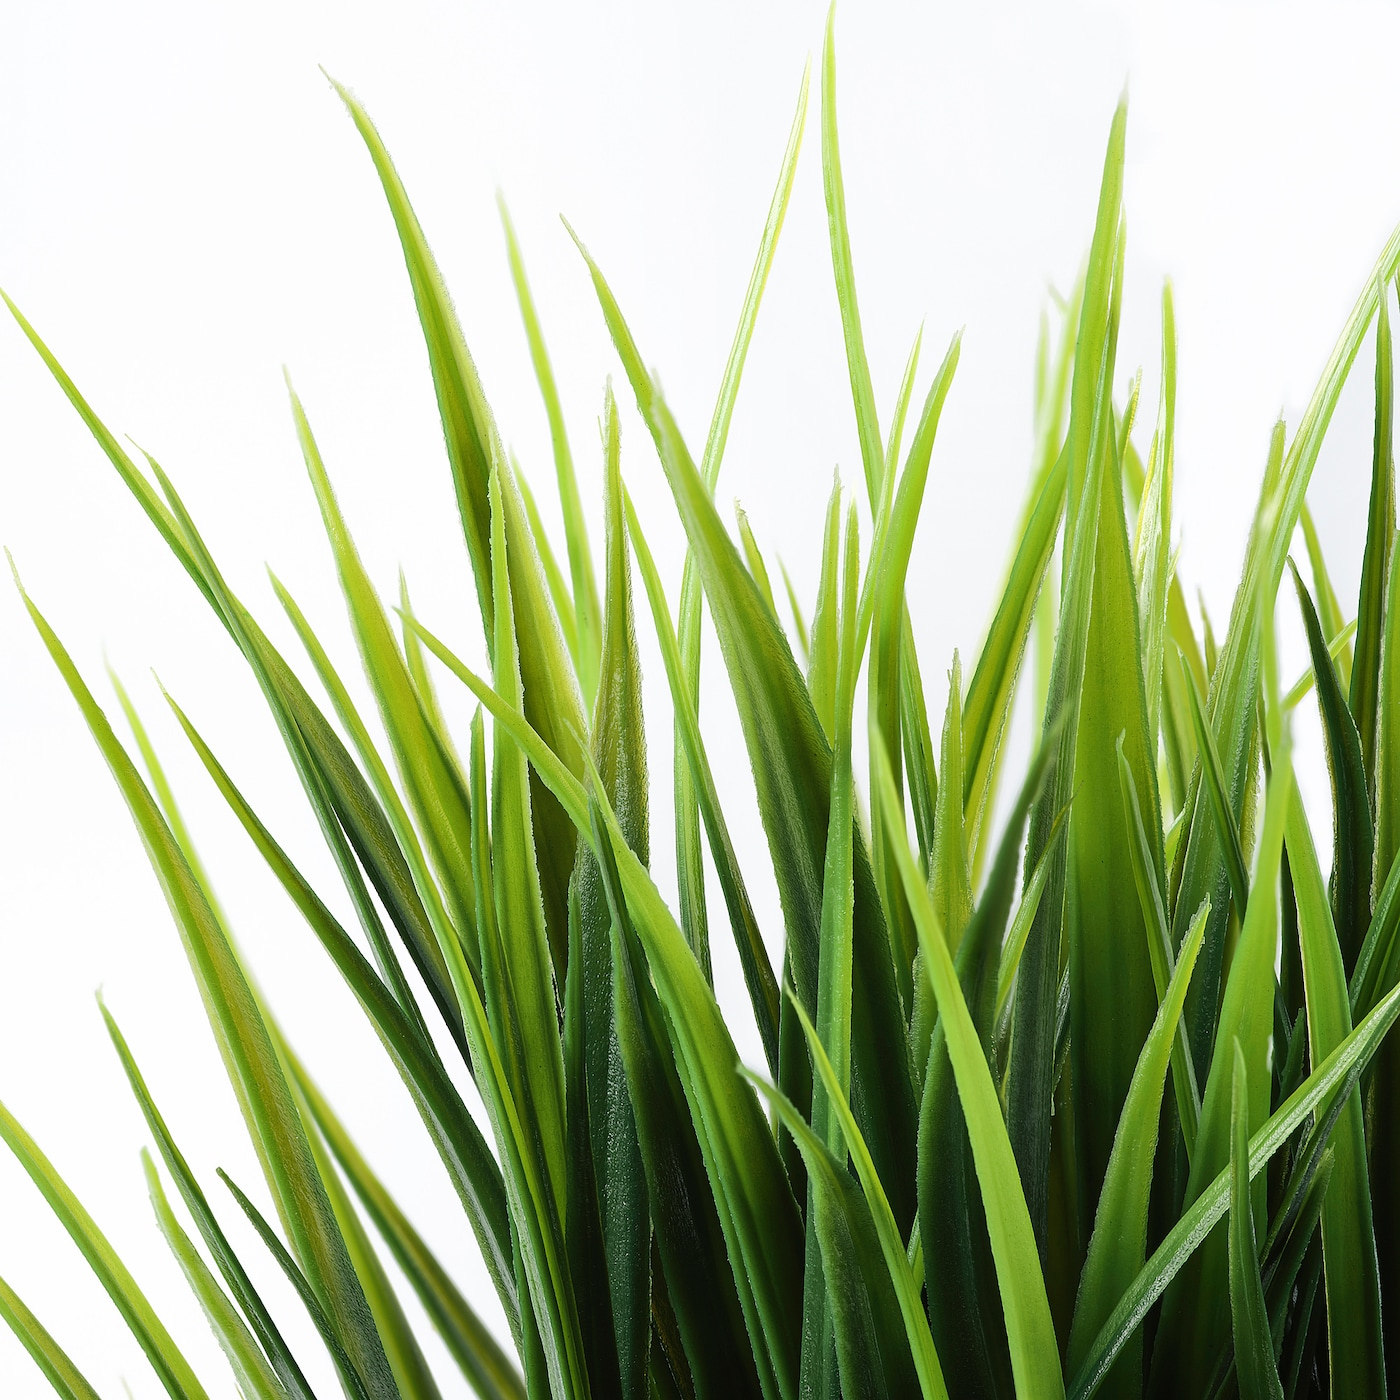grass: (344, 474, 1400, 1400)
